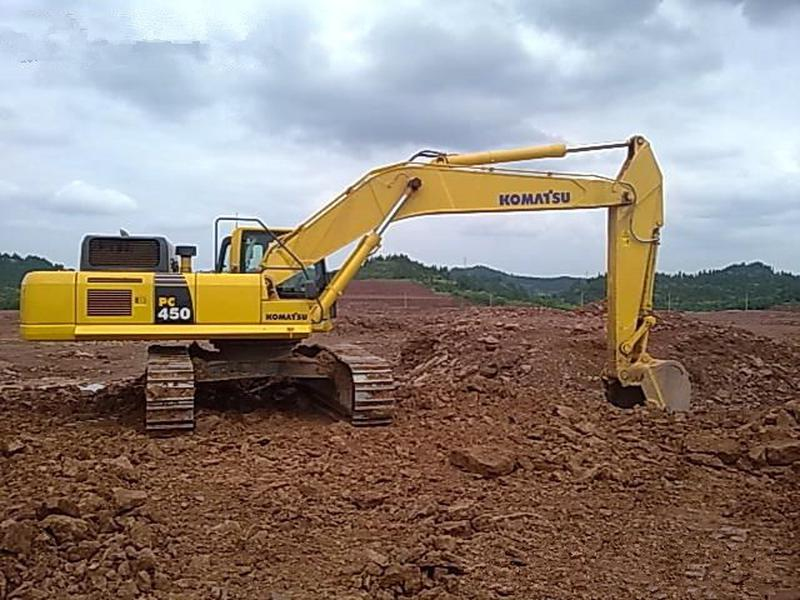shovel: (16, 130, 707, 443)
